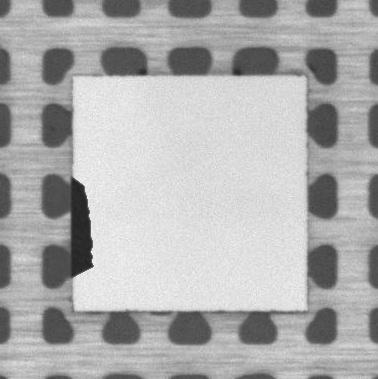DIE_BROKEN: (68, 176, 96, 278)
